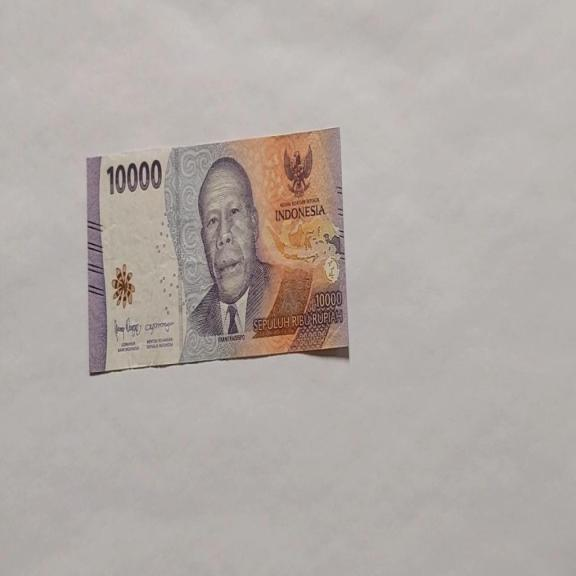Kertas: (86, 125, 349, 375)
